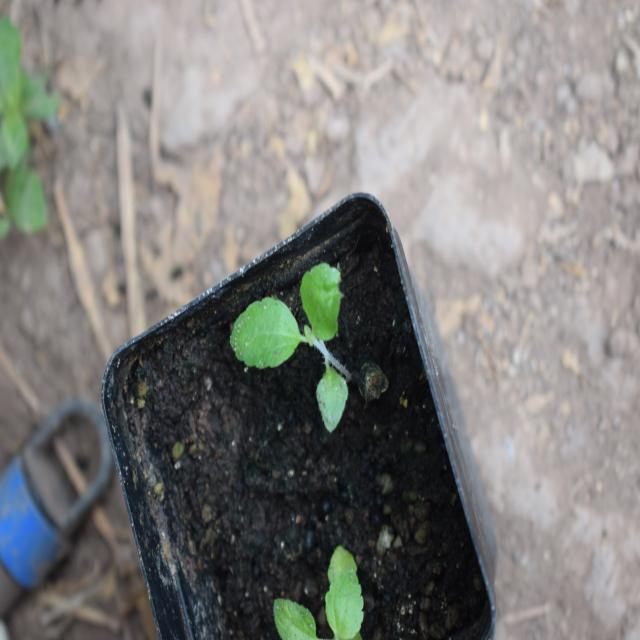billygoat_weed: (233, 270, 359, 425)
